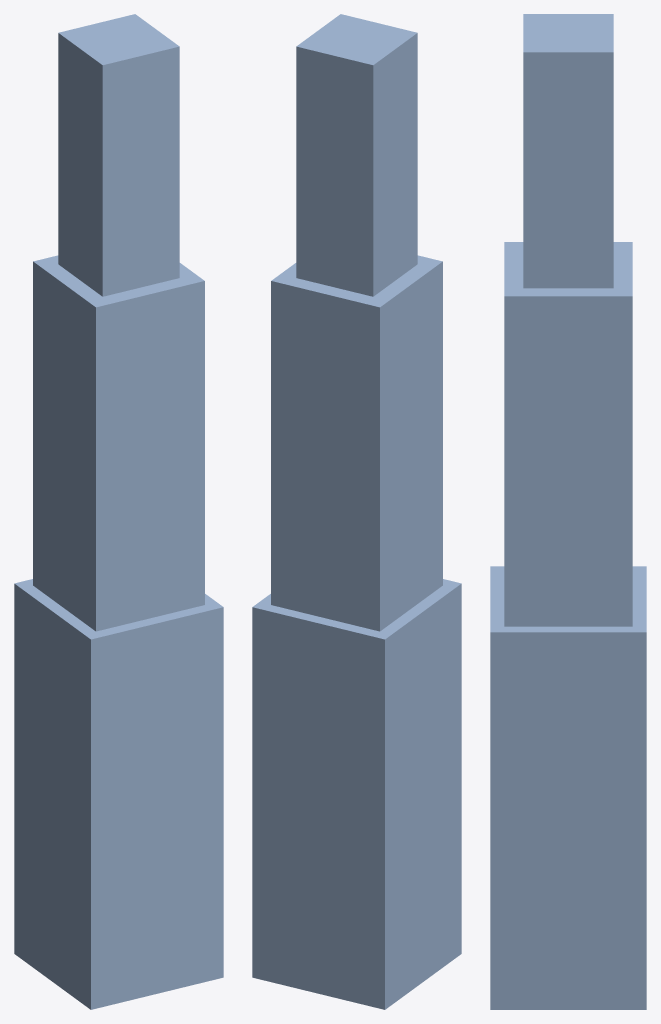
Rendered from sky_step.glb.
3 renders of one model, left to right at view 1: azimuth 30°, elevation 25°; view 2: azimuth 150°, elevation 25°; view 3: azimuth 270°, elevation 25°, orthographic.
Visible parts, largest first — view 1: sky_step; view 2: sky_step; view 3: sky_step.
Boxes of the visible parts, x1,y1,x2,y2 form: sky_step: (14,14,223,1009); sky_step: (252,14,461,1009); sky_step: (490,14,646,1009).
Size of the model in its own units: 0.72 by 4.8 by 0.72.
